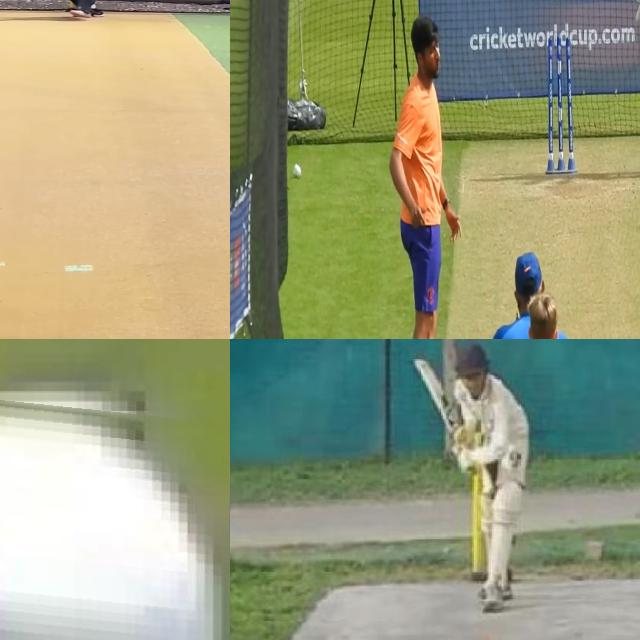Cricket ball: (0, 385, 229, 640), (292, 161, 303, 180)
Stumps: (546, 34, 576, 175)
